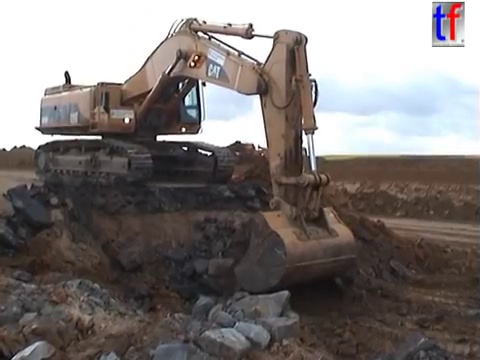excavator: (30, 14, 360, 297)
wheel loader: (223, 136, 310, 170)
